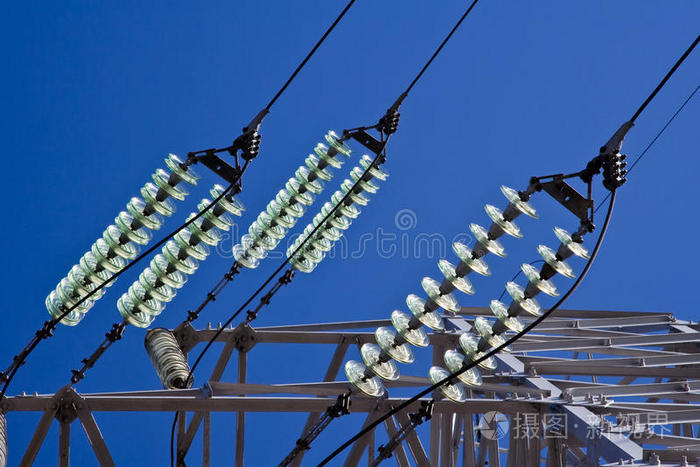insulator: (347, 179, 541, 395), (429, 228, 588, 404), (49, 153, 198, 324), (119, 187, 244, 325), (233, 129, 351, 267), (285, 158, 392, 273), (146, 329, 197, 389)
